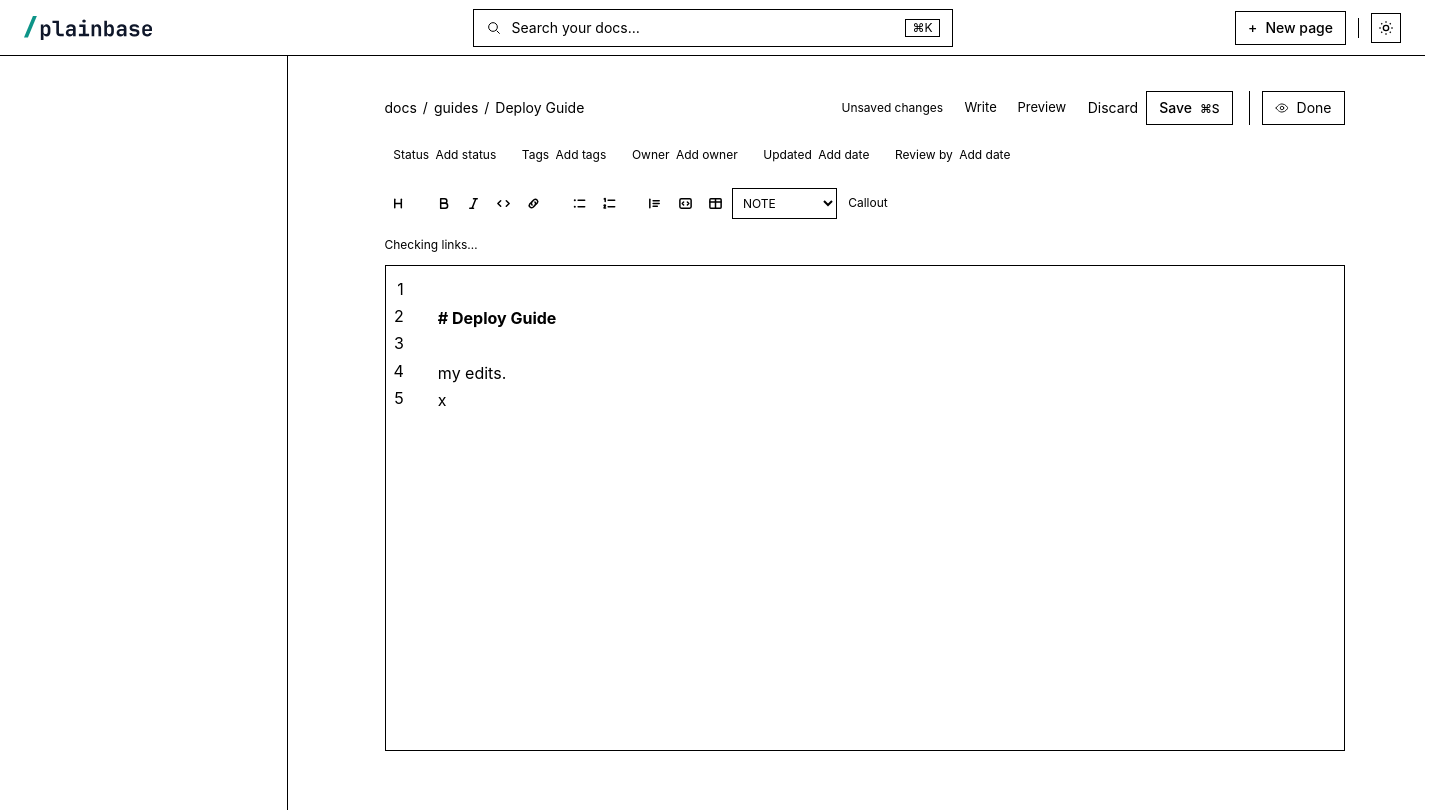
Test case: W6 conflict UX › page_deleted offers 'save as new page' prefilled with the buffer (no dead-end)
The image size is (1440, 810).
Check: the element with class "cm-editor" is shown, box [394,279,556,410]
Click the button "Save⌘S" at (1189, 108), box [1146,91,1232,125]
(page scrolled)
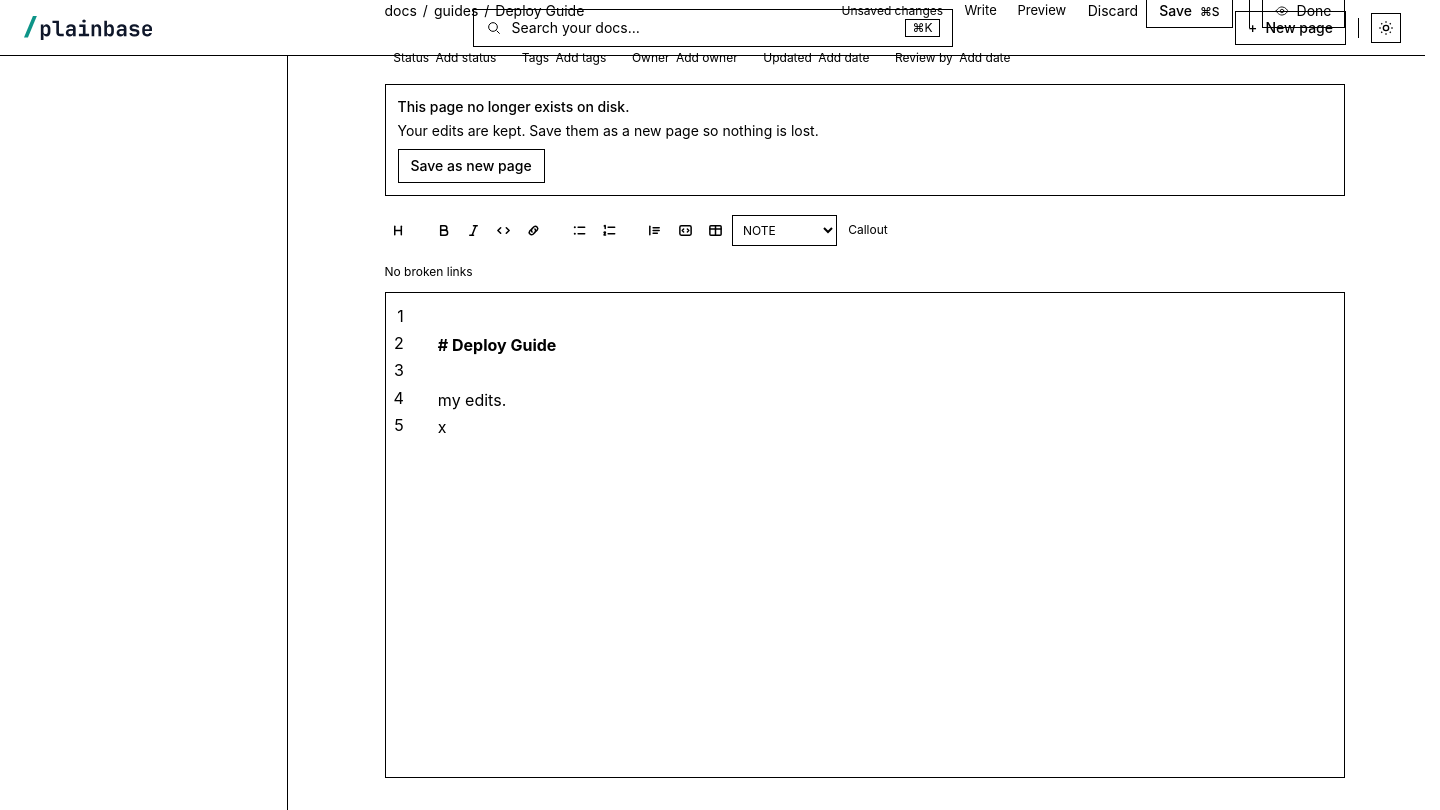
Check: the element showing "1 2 3 4 5 # Deploy Guide my edits. x" is shown, box [384,292,1344,778]
Check: the element that starts with "This page no longer exists on disk." is shown, box [384,84,1344,196]
Check: the button "Save as new page" is shown, box [398,149,545,183]
